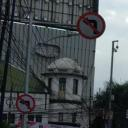NoVirarEsquerda: (76, 12, 107, 40), (13, 92, 37, 114)
